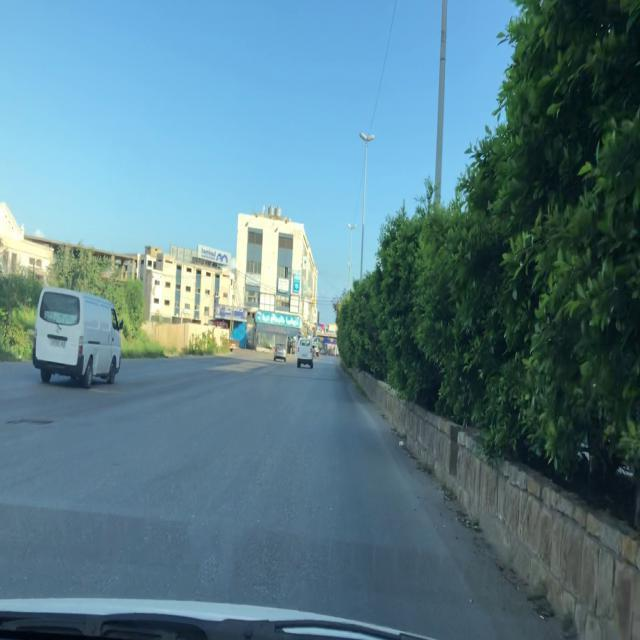pothole: (4, 413, 56, 431)
